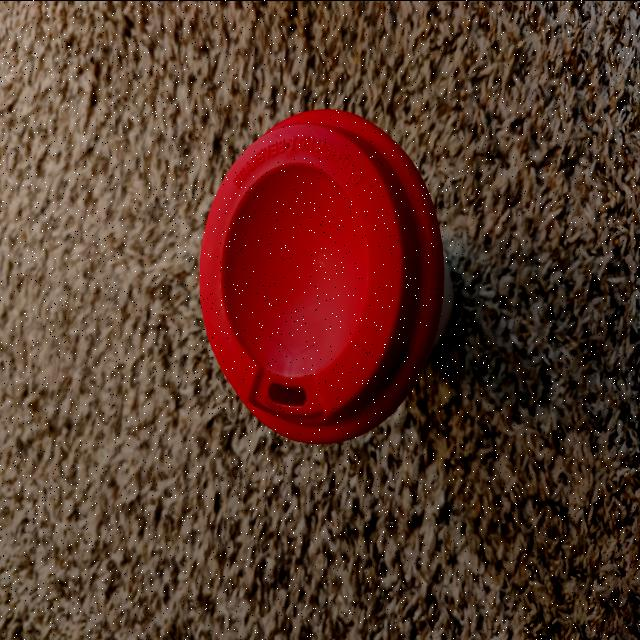mug: (197, 118, 452, 442)
